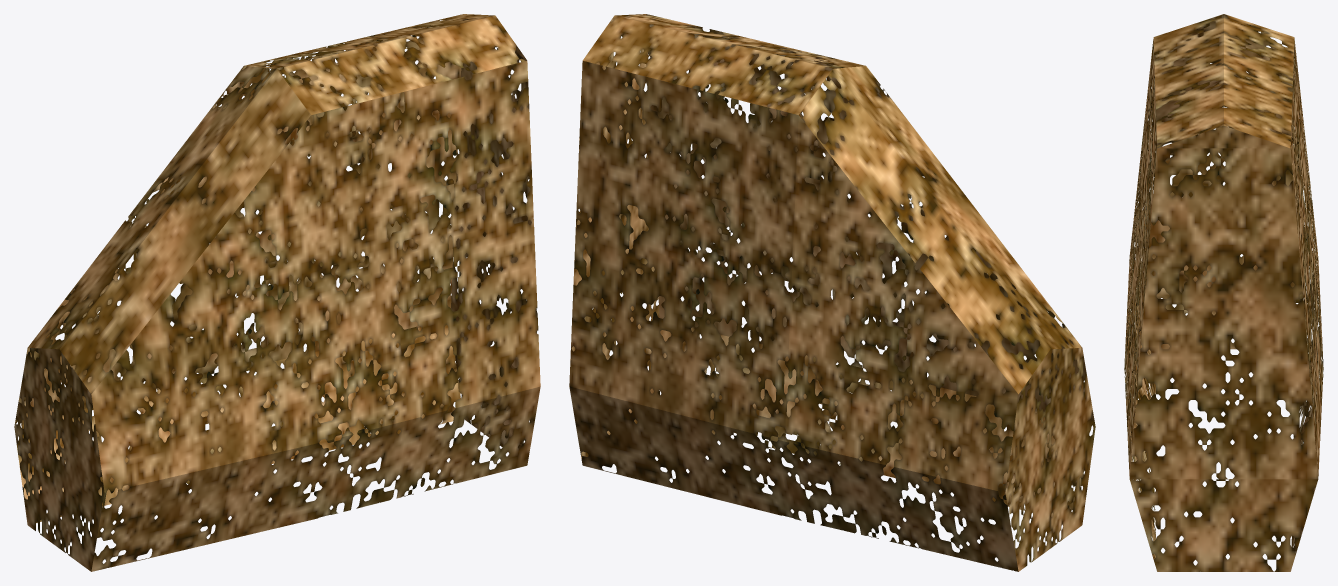
Rendered from bush_connector_autumn.fbx.
3 views of the same model, side by side, from view 1: azimuth 30°, elevation 25°; view 2: azimuth 150°, elevation 25°; view 3: azimuth 270°, elevation 25° (orthographic). The views are drawn at different scales.
Visible parts, largest first — view 1: bush_connector_autumn; view 2: bush_connector_autumn; view 3: bush_connector_autumn.
Part boxes in pixels (box(x1,y1,x2,y2)): bush_connector_autumn: box(14, 14, 540, 571); bush_connector_autumn: box(569, 14, 1095, 571); bush_connector_autumn: box(1124, 14, 1323, 571).
Bounding box in the file's own units: 201 × 188 × 75.92.
Materials: 1 (1 with a texture image).
